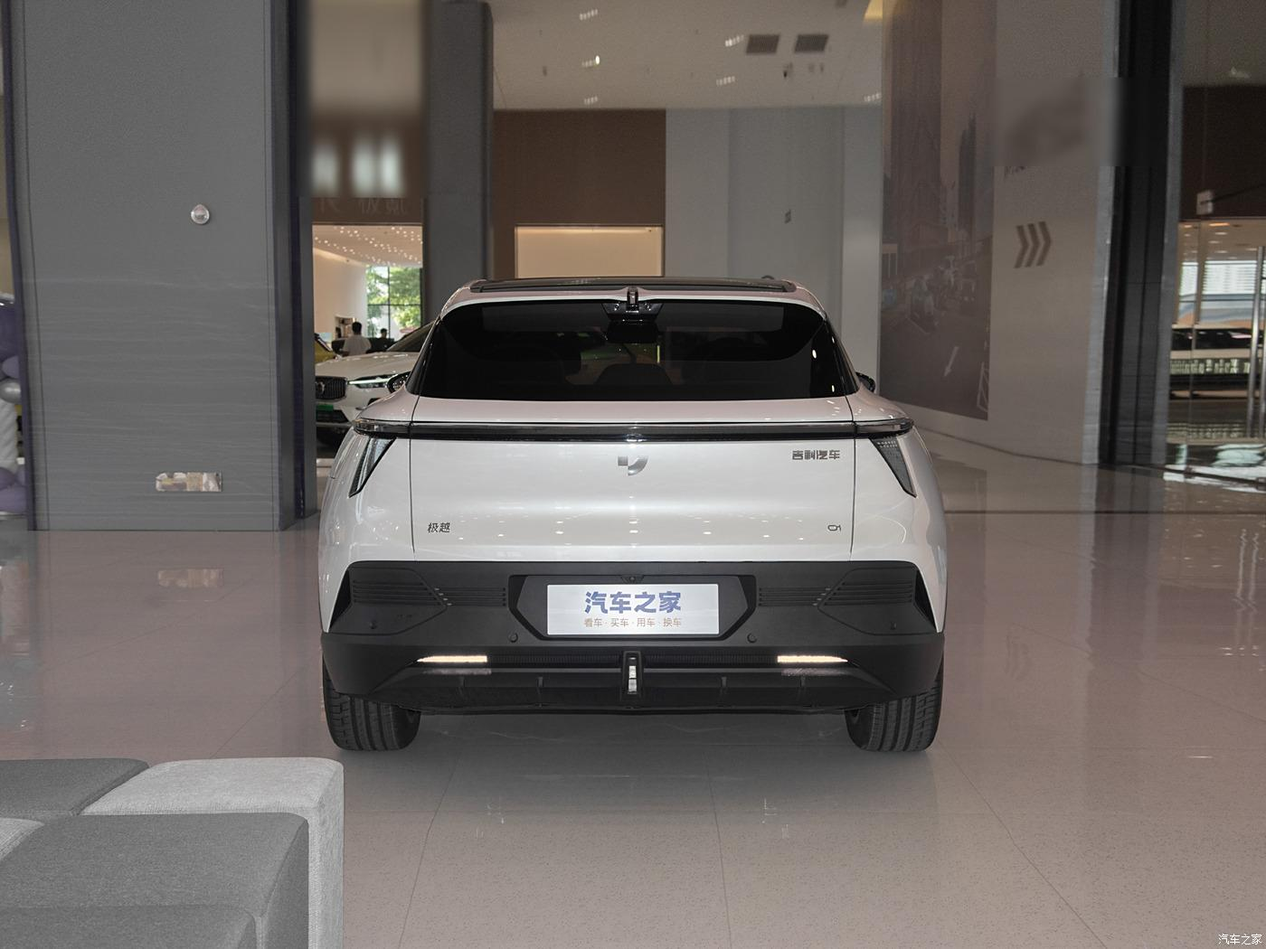JIYUE: (617, 455, 648, 477)
